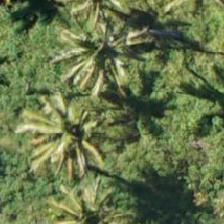coconut_tree: (25, 87, 115, 177)
